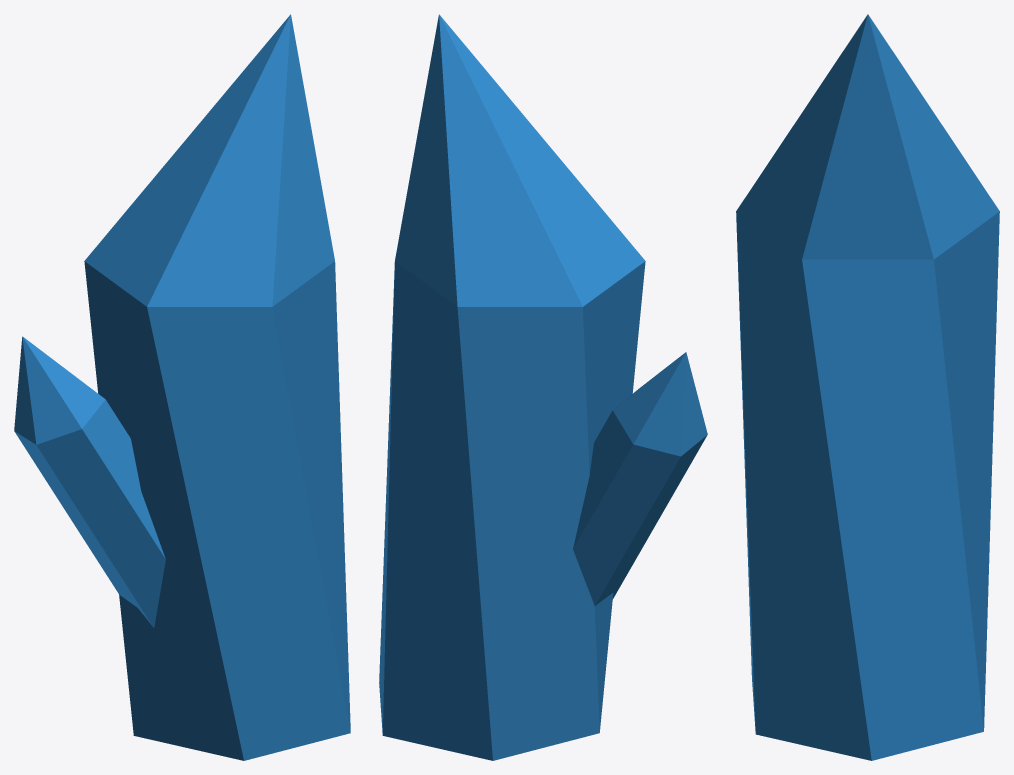
File: Prisim.fbx
3 renders of one model, left to right at view 1: azimuth 30°, elevation 25°; view 2: azimuth 150°, elevation 25°; view 3: azimuth 270°, elevation 25°, orthographic. The views are drawn at different scales.
Visible parts, largest first — view 1: Prisim; view 2: Prisim; view 3: Prisim.
Boxes of the visible parts, x1,y1,x2,y2 form: Prisim: [14, 14, 350, 760]; Prisim: [379, 14, 707, 760]; Prisim: [736, 14, 999, 760].
Bounding box in the file's own units: 0.6436 × 1.31 × 0.437.
